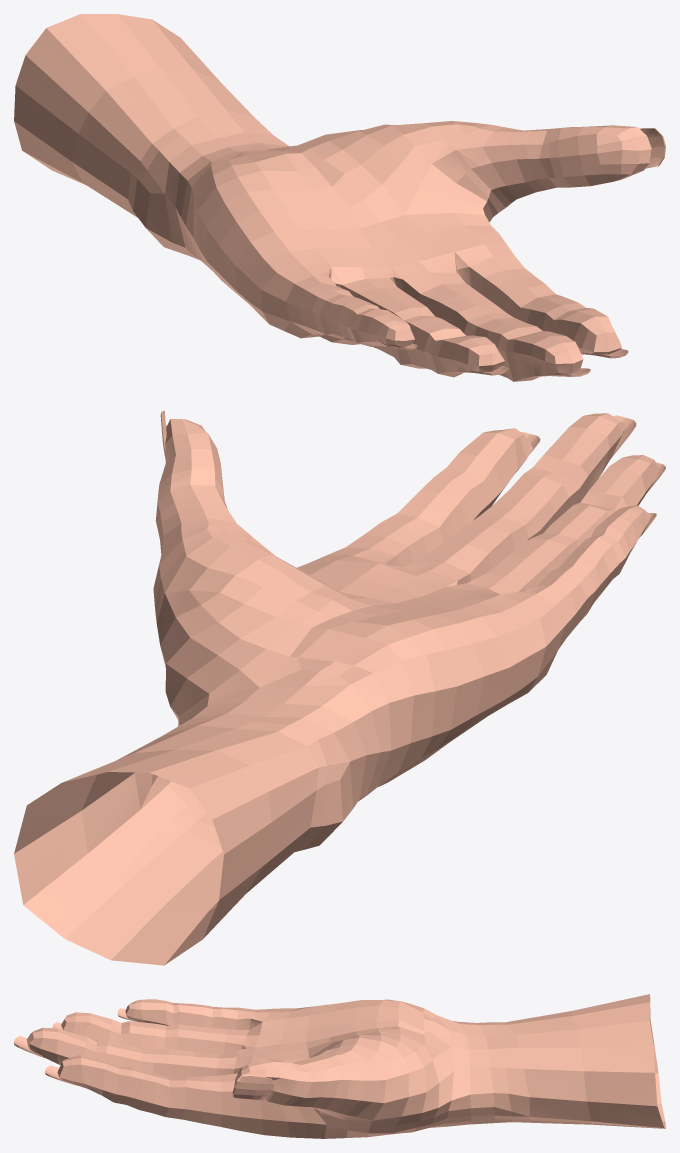
File: 3_8_HandPolygonalLeftFront.glb
The picture shows the model from 3 angles, top to bottom: view 1: azimuth 30°, elevation 25°; view 2: azimuth 150°, elevation 25°; view 3: azimuth 270°, elevation 25°; orthographic projection. The views are drawn at different scales.
Visible parts, largest first — view 1: hand_femme_rachel_polySurface1130.006; view 2: hand_femme_rachel_polySurface1130.006; view 3: hand_femme_rachel_polySurface1130.006.
Part boxes in pixels (x1,y1,x2,y2): hand_femme_rachel_polySurface1130.006: [14, 14, 665, 381]; hand_femme_rachel_polySurface1130.006: [14, 410, 665, 965]; hand_femme_rachel_polySurface1130.006: [14, 994, 665, 1138].
Size of the model in its own units: 0.0793 by 0.0399 by 0.1742.
